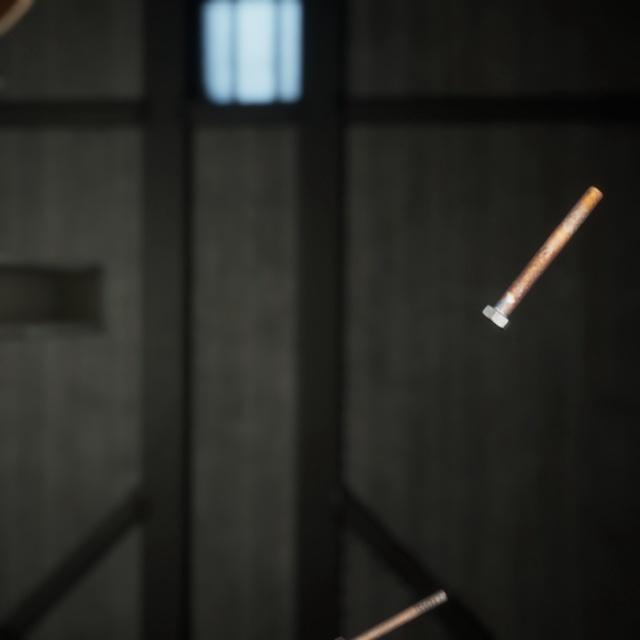bolt: (477, 165, 607, 318), (328, 562, 452, 640)
